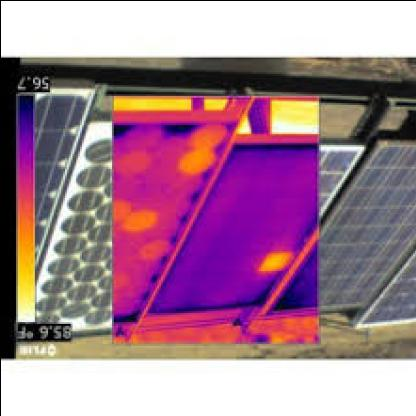Defects: (122, 208, 152, 236), (180, 152, 212, 176), (260, 250, 290, 274)
